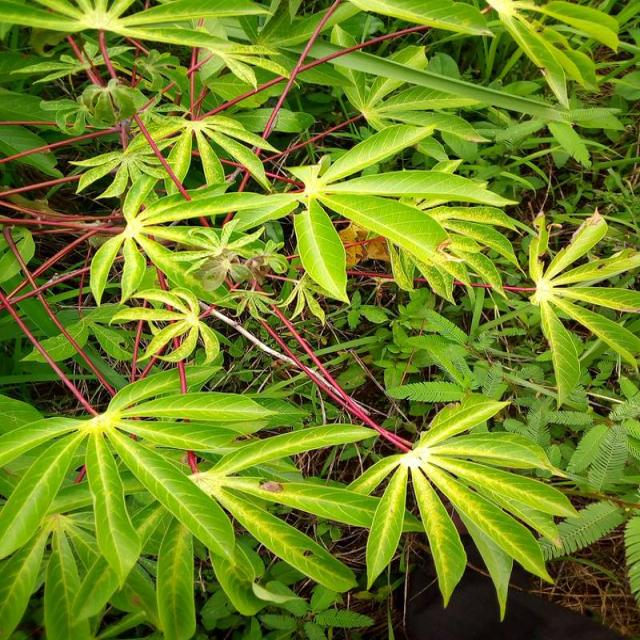cassava leaf: (0, 1, 638, 636), (346, 391, 580, 621)
